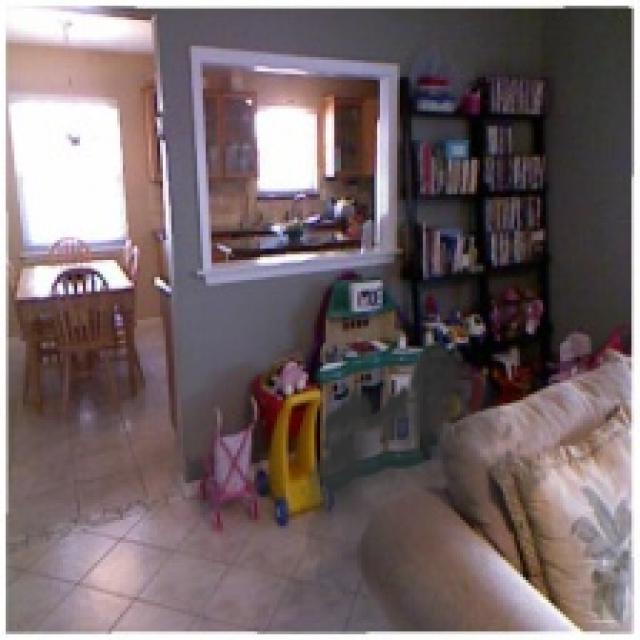smoke: (300, 334, 549, 609)
